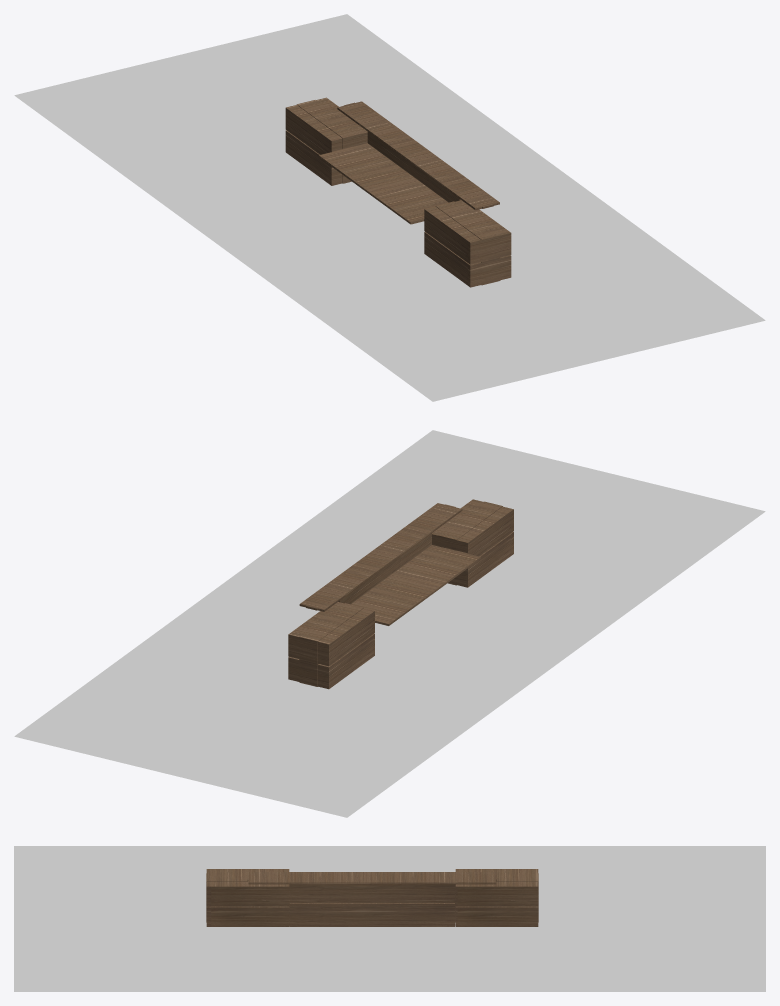
Rendered from Service Desk SHC QuickOffice.fbx.
3 views of the same model, one above another, from view 1: azimuth 30°, elevation 25°; view 2: azimuth 150°, elevation 25°; view 3: azimuth 270°, elevation 25° (orthographic). The views are drawn at different scales.
Visible parts, largest first — view 1: Model, Component_184_1; view 2: Model, Component_184_1; view 3: Model, Component_184_1.
Part boxes in pixels (left/top/right/bottom): Model: left=14, top=14, right=765, bottom=401; Component_184_1: left=285, top=97, right=511, bottom=287; Model: left=14, top=430, right=765, bottom=817; Component_184_1: left=288, top=499, right=513, bottom=689; Model: left=14, top=846, right=765, bottom=991; Component_184_1: left=206, top=869, right=538, bottom=926.
Bounding box in the file's own units: 7.01 × 1.12 × 15.26.
